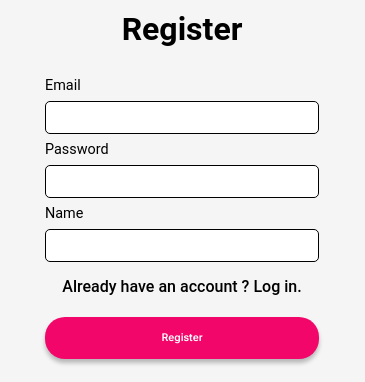
Test case: Home component › 'login' button navigates to login website.
What coordinates should you click on to do the following:
click the link "Already have an account ? Log in."
I would click on:
 (182, 286)
Its box is left=45, top=277, right=319, bottom=296.
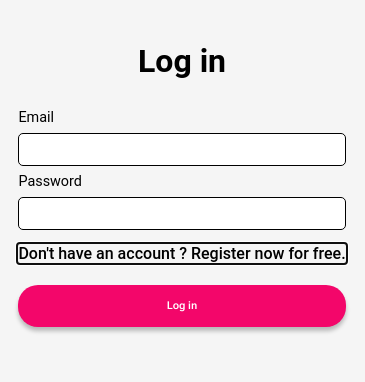
Result: the link "Don't have an account ? Register now for free." is shown at left=18, top=244, right=346, bottom=264
